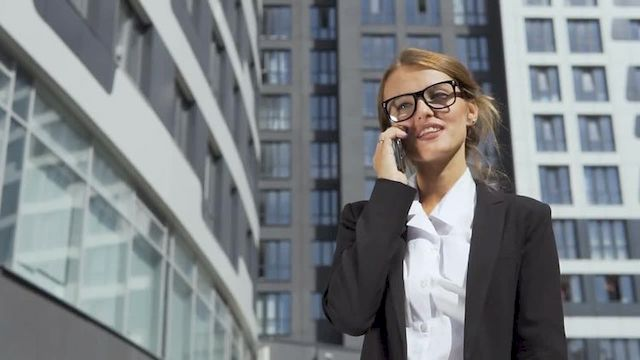phone: (377, 119, 411, 173)
talk: (372, 79, 467, 180)
